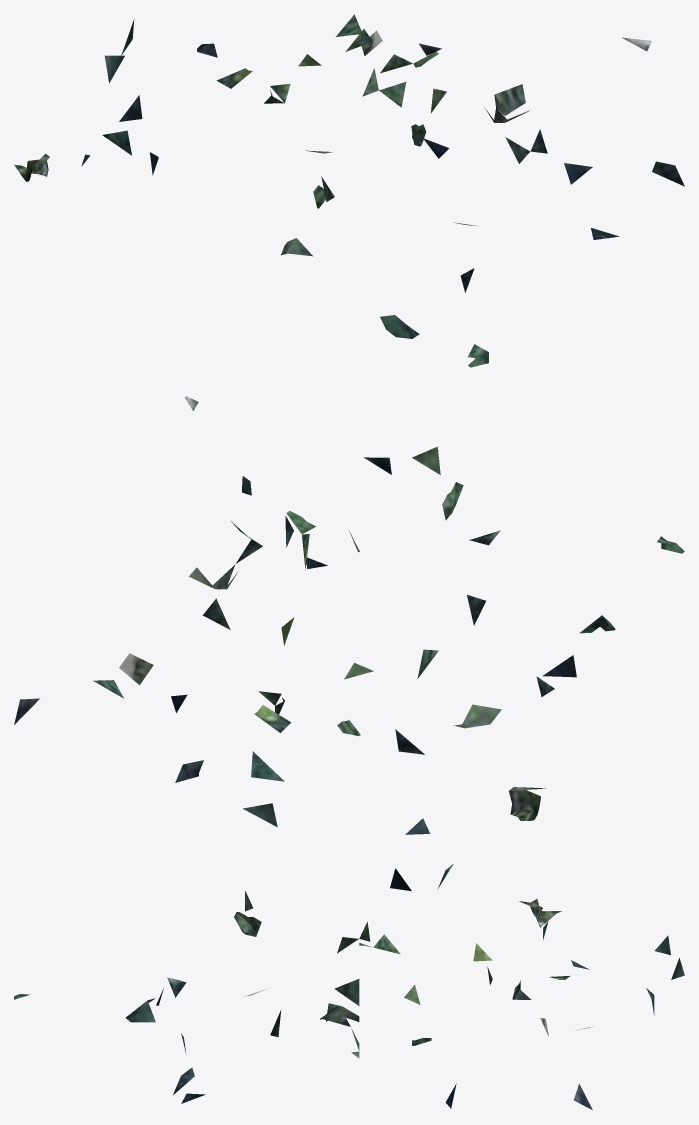
3 renders of one model, top to bottom at view 1: azimuth 30°, elevation 25°; view 2: azimuth 150°, elevation 25°; view 3: azimuth 270°, elevation 25°, orthographic. The views are drawn at different scales.
Visible parts, largest first — view 1: 30436272704361605536_1; view 2: 30436272704361605536_1; view 3: 30436272704361605536_1.
Boxes of the visible parts, bbox=[...] form: 30436272704361605536_1: bbox=[14, 14, 684, 367]; 30436272704361605536_1: bbox=[14, 396, 684, 834]; 30436272704361605536_1: bbox=[14, 864, 684, 1110].
Bounding box in the file's own units: 27.31 × 10.17 × 37.18.
Materials: 1 (1 with a texture image).
